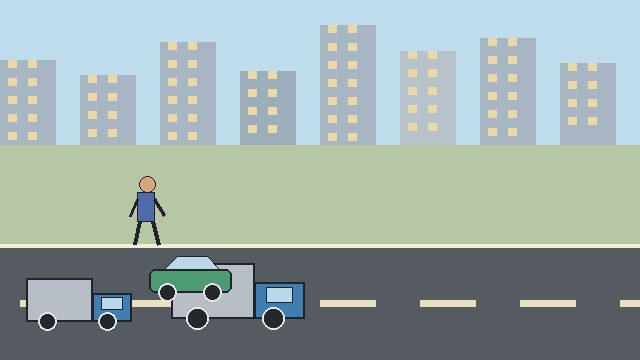car: (149, 256, 231, 301)
person: (130, 176, 166, 246)
truck: (171, 263, 304, 329), (26, 278, 131, 330)
